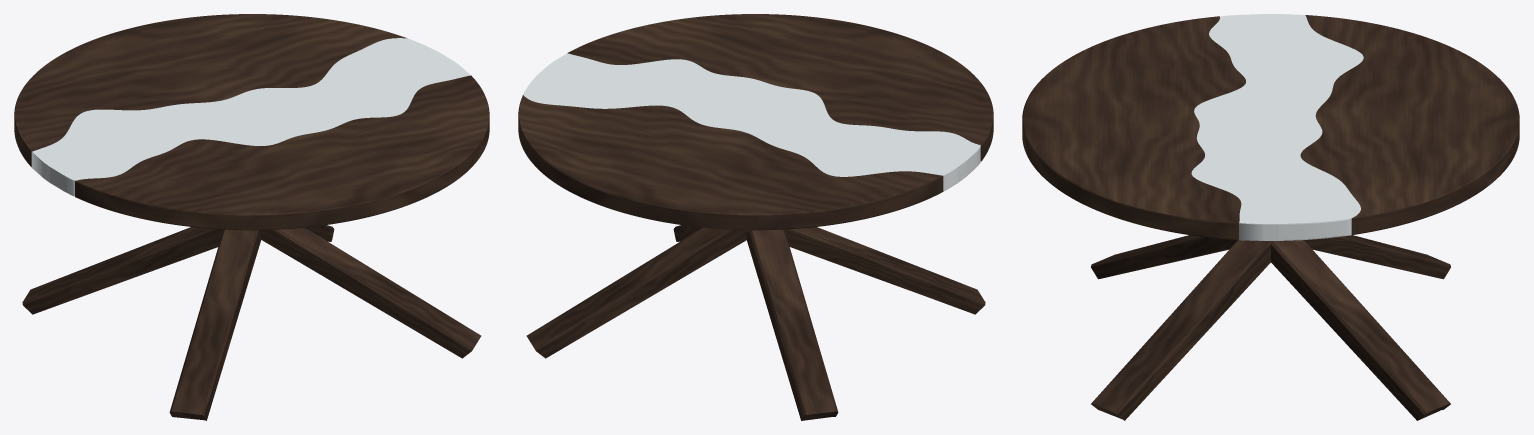
File: round-walnut-epoxy-clear.glb
The picture shows the model from 3 angles, left to right: view 1: azimuth 30°, elevation 25°; view 2: azimuth 150°, elevation 25°; view 3: azimuth 270°, elevation 25°; orthographic projection. The views are drawn at different scales.
Parts seen in each view (by area): view 1: Wood_Round_EpoxyFar, Wood_Round_EpoxyNear, Resin_Round, Base_Round; view 2: Wood_Round_EpoxyNear, Wood_Round_EpoxyFar, Resin_Round, Base_Round; view 3: Wood_Round_EpoxyFar, Wood_Round_EpoxyNear, Resin_Round, Base_Round.
Boxes of the visible parts, x1=… form: Wood_Round_EpoxyFar: x1=75, y1=75, x2=489, y2=230; Wood_Round_EpoxyNear: x1=14, y1=14, x2=406, y2=166; Resin_Round: x1=31, y1=38, x2=470, y2=196; Base_Round: x1=22, y1=225, x2=481, y2=420; Wood_Round_EpoxyNear: x1=518, y1=95, x2=943, y2=230; Wood_Round_EpoxyFar: x1=567, y1=14, x2=993, y2=161; Resin_Round: x1=523, y1=53, x2=980, y2=191; Base_Round: x1=526, y1=225, x2=985, y2=420; Wood_Round_EpoxyFar: x1=1022, y1=16, x2=1245, y2=239; Wood_Round_EpoxyNear: x1=1300, y1=15, x2=1519, y2=235; Resin_Round: x1=1191, y1=14, x2=1363, y2=240; Base_Round: x1=1091, y1=235, x2=1450, y2=420.
Size of the model in its own units: 1.52 by 0.762 by 1.52.
Materials: 3 (2 with a texture image).
